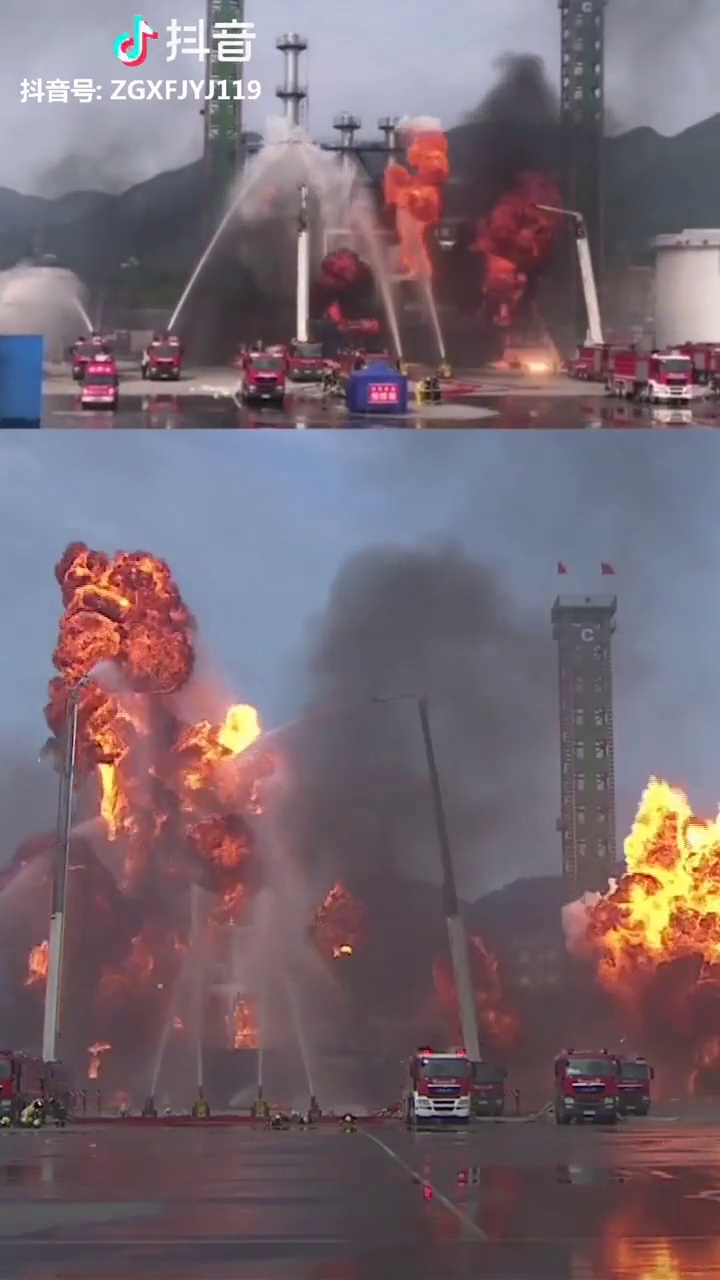fire: (25, 545, 280, 908), (560, 759, 711, 992), (460, 173, 562, 324), (370, 120, 468, 265)
yanwu: (288, 534, 462, 943)
